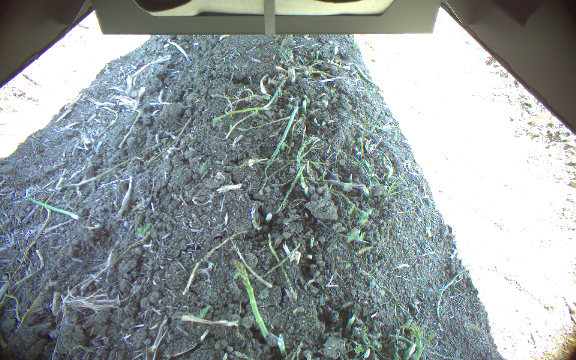aspa: (232, 258, 271, 342), (275, 331, 287, 356)
